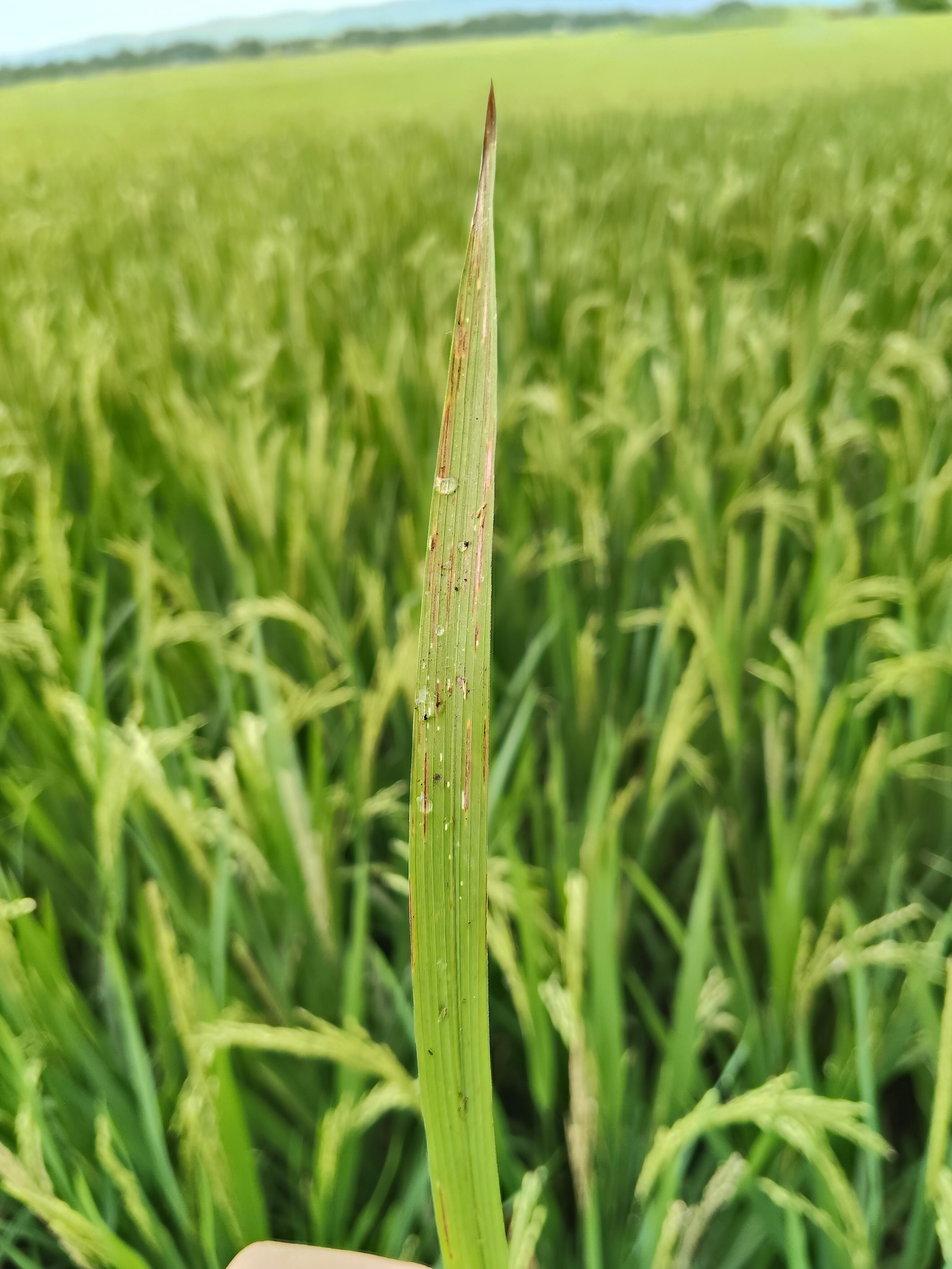NBS: (471, 529, 483, 618), (482, 422, 495, 502), (439, 1190, 453, 1262), (483, 331, 493, 429), (437, 407, 450, 476), (463, 722, 472, 812), (445, 543, 454, 614), (423, 752, 427, 838), (431, 585, 437, 637), (455, 357, 463, 393), (450, 357, 456, 397), (473, 626, 479, 650), (428, 570, 432, 592)
